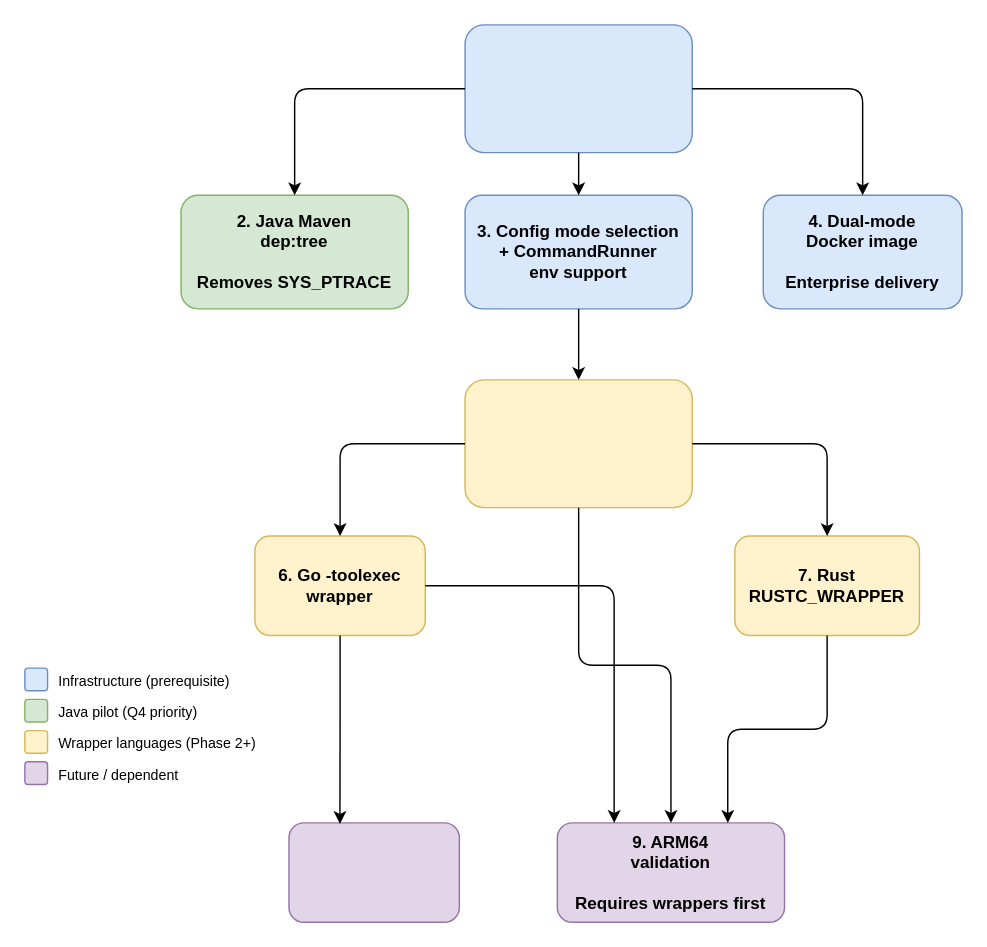
Some shapes in this 987 by 947 pixel diagram are drawn without their labels. The centre of each missing label's shape, as x and y in pixels:
"1. Package resolver abstraction Blocks Java + C/C++ on enterprise distros" goes at pixel 578 88.
"5. C/C++ LD_PRELOAD shim (sidecar primary) Depends on config + upstream shim" goes at pixel 578 443.
"8. Go cache integration" goes at pixel 373 871.
